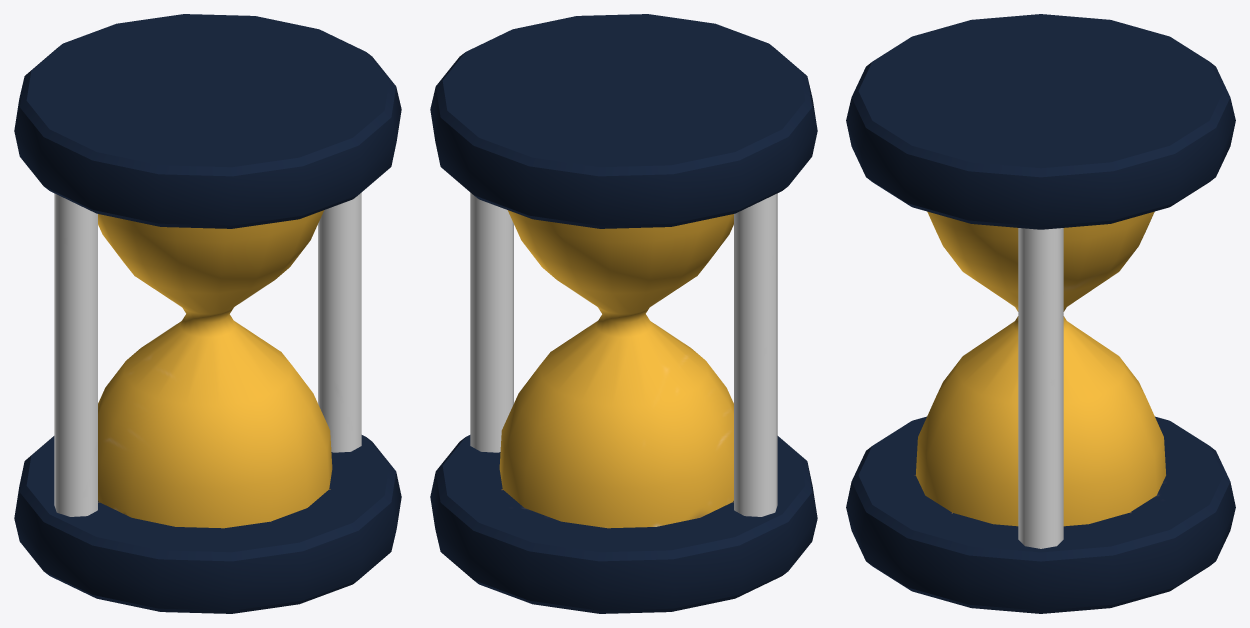
Rendered from timer.fbx.
3 renders of one model, left to right at view 1: azimuth 30°, elevation 25°; view 2: azimuth 150°, elevation 25°; view 3: azimuth 270°, elevation 25°, orthographic.
Parts seen in each view (by area): view 1: timer; view 2: timer; view 3: timer.
Boxes of the visible parts, x1,y1,x2,y2 form: timer: (14,14,401,613); timer: (430,14,817,613); timer: (846,14,1235,613).
Size of the model in its own units: 32.2 by 40.61 by 32.2.
